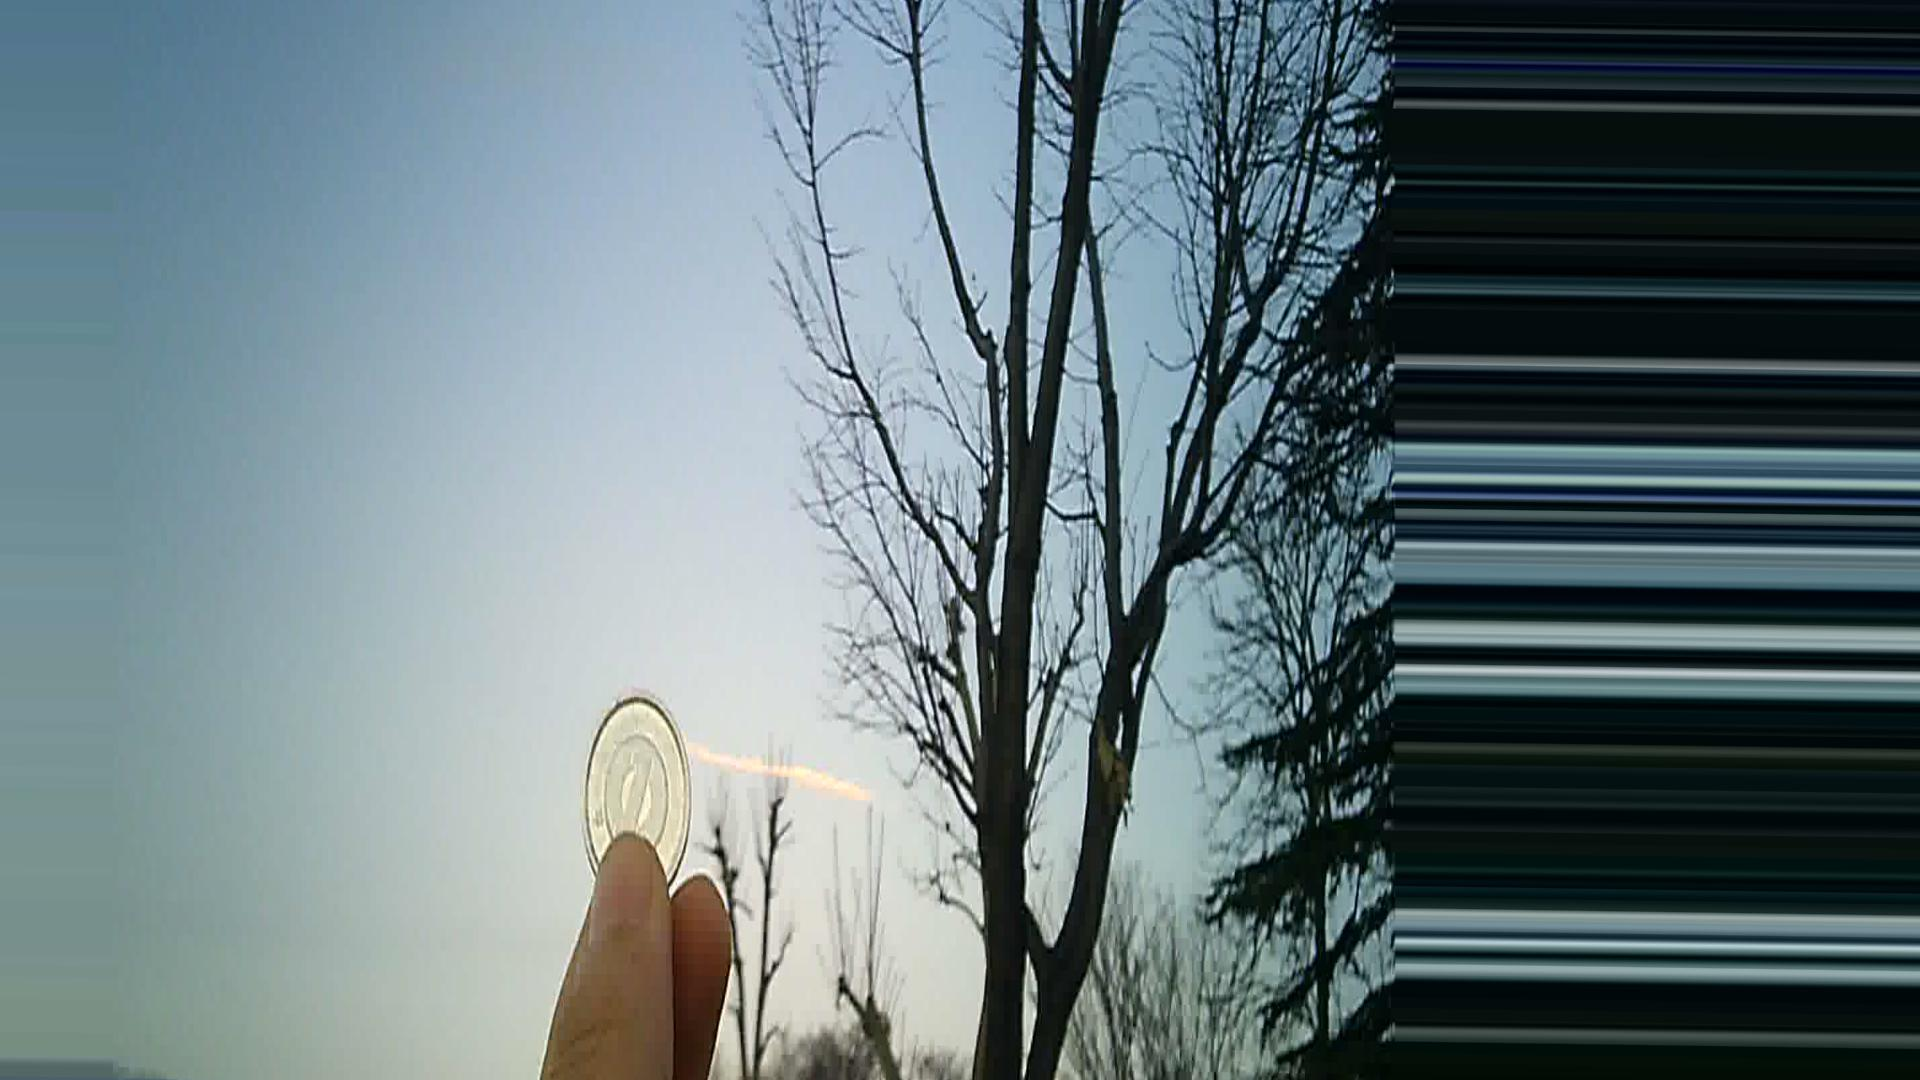1 Yen: (575, 694, 691, 894)
